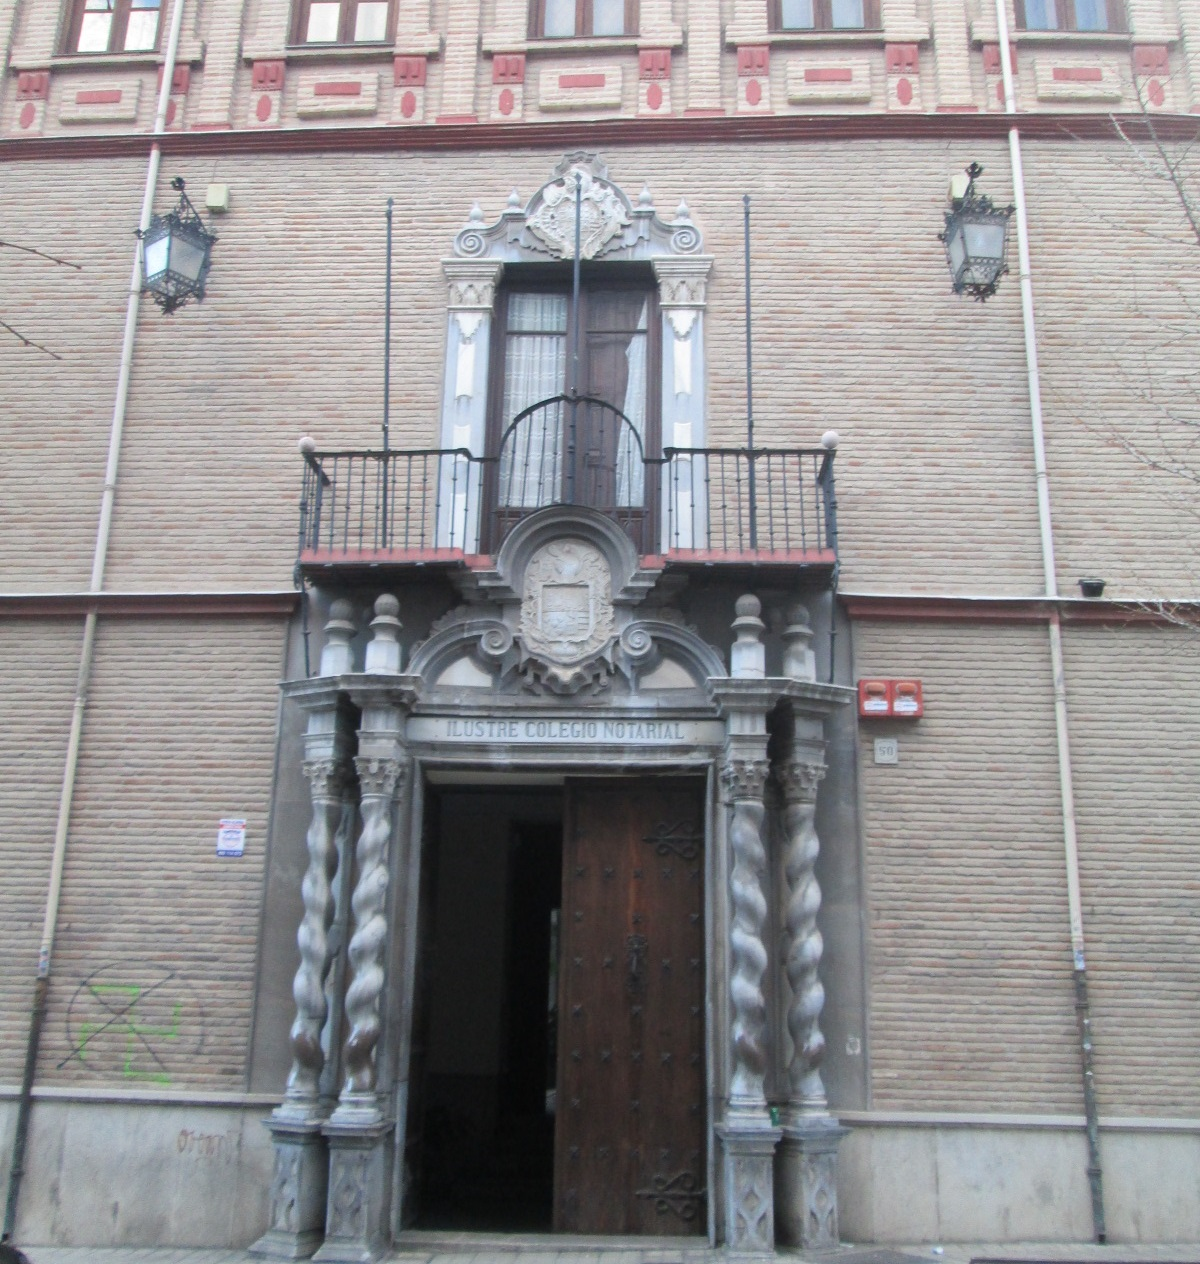columna-salomonica: (777, 783, 833, 1116), (343, 776, 396, 1126), (286, 786, 344, 1106), (722, 785, 777, 1116)
fronton-partido: (409, 617, 727, 713)
vano-adintelado: (398, 698, 723, 1257), (469, 246, 683, 551)
